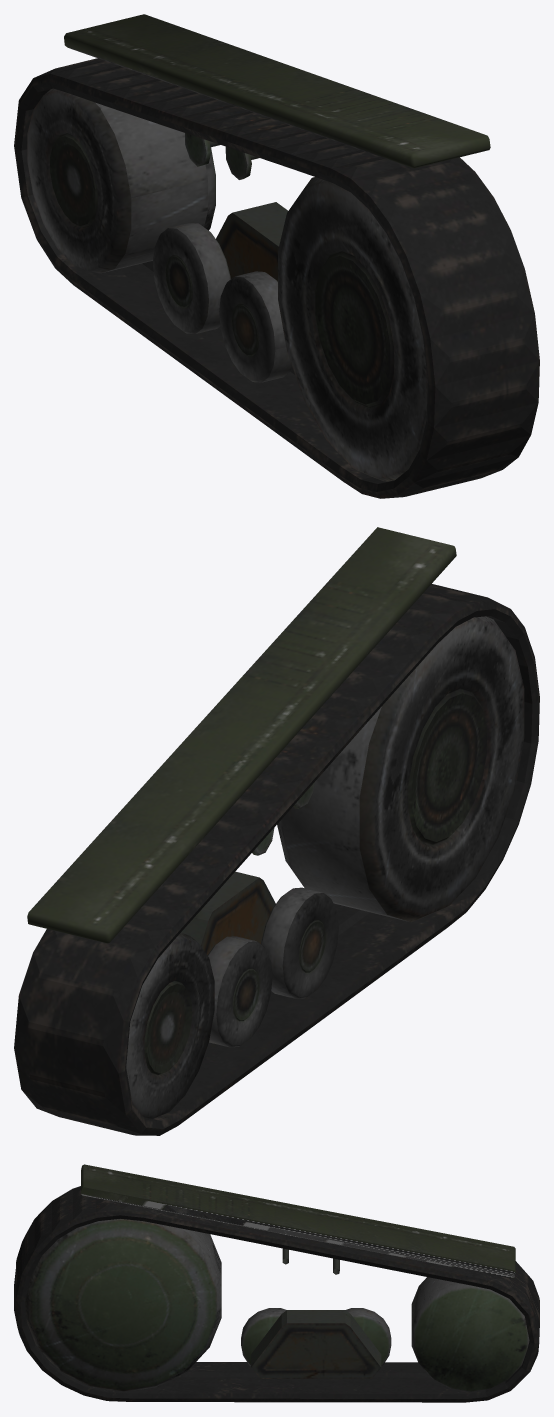
The model's file is senila_dreapta.obj.
The picture shows the model from 3 angles, top to bottom: view 1: azimuth 30°, elevation 25°; view 2: azimuth 150°, elevation 25°; view 3: azimuth 270°, elevation 25°; orthographic projection. The views are drawn at different scales.
Visible parts, largest first — view 1: Tank.002_Tank.002; view 2: Tank.002_Tank.002; view 3: Tank.002_Tank.002.
Part boxes in pixels (x1,y1,x2,y2): Tank.002_Tank.002: [14, 14, 539, 498]; Tank.002_Tank.002: [14, 527, 539, 1135]; Tank.002_Tank.002: [14, 1164, 539, 1402].
Bounding box in the file's own units: 43.25 × 128 × 280.
1 material, 1 textured.
